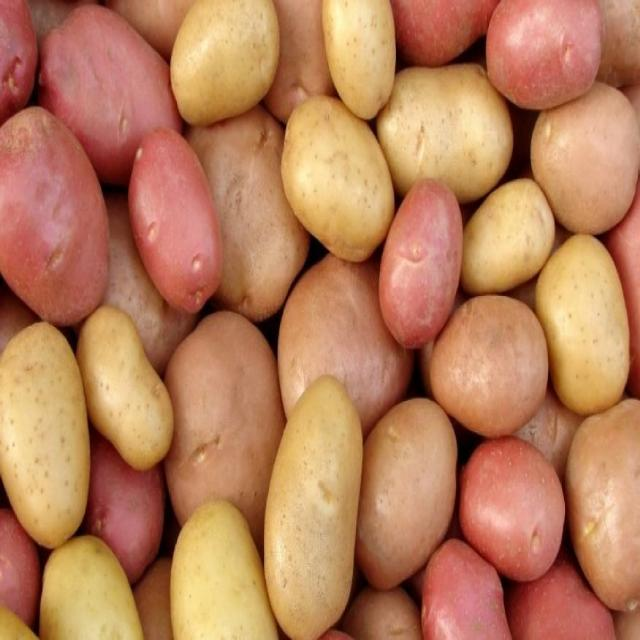potato: (266, 373, 363, 640), (0, 316, 94, 548), (536, 230, 634, 416), (374, 67, 520, 190), (281, 90, 388, 256), (82, 308, 174, 467), (172, 0, 289, 121), (459, 175, 561, 290)
